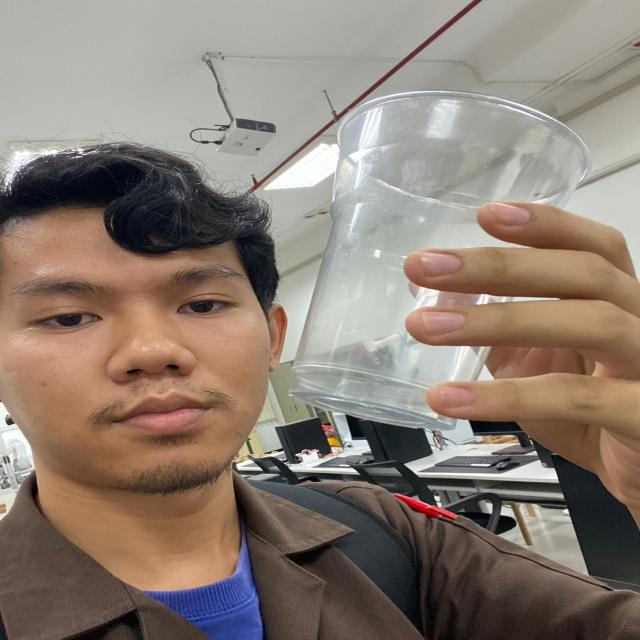glass: (286, 86, 602, 433)
